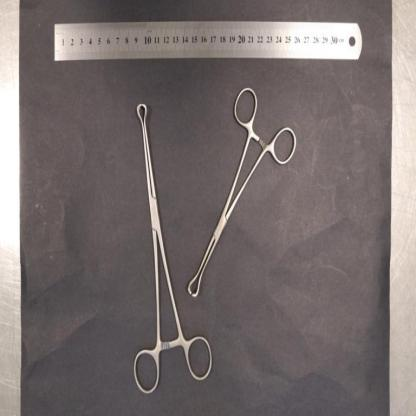8 Babcock Tissue Forceps: (134, 102, 214, 395)
Babcock Tissue Forceps: (187, 88, 297, 296)
